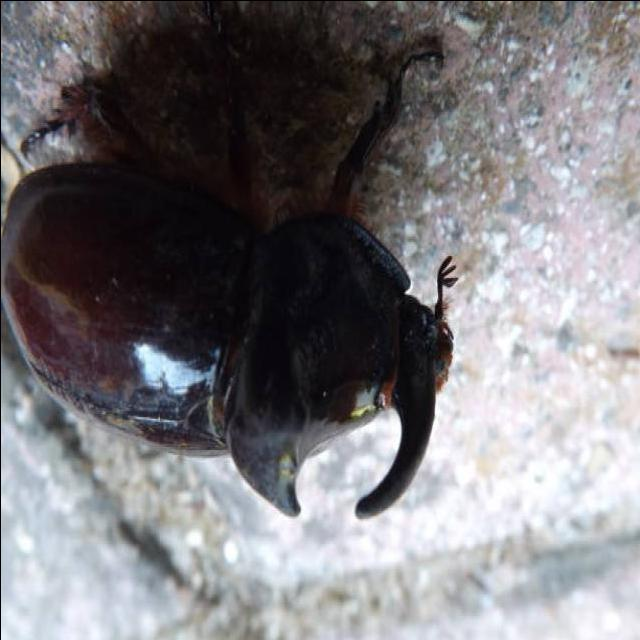Rhino-beetle: (0, 110, 465, 525)
